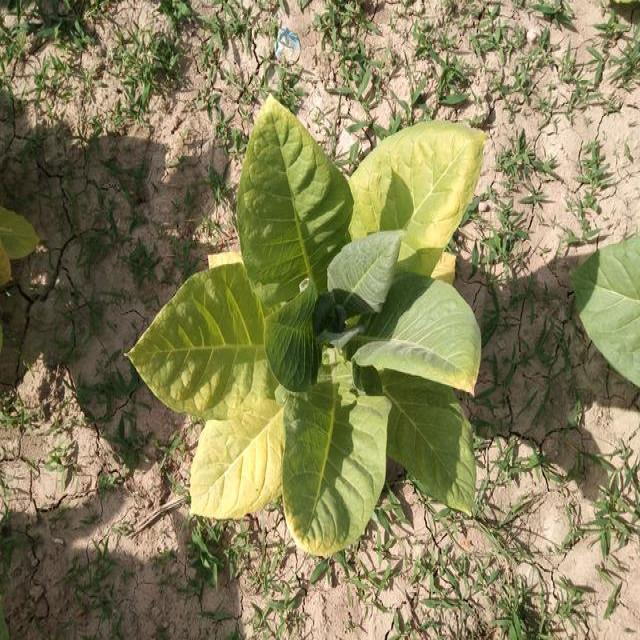crop: (129, 92, 496, 564)
